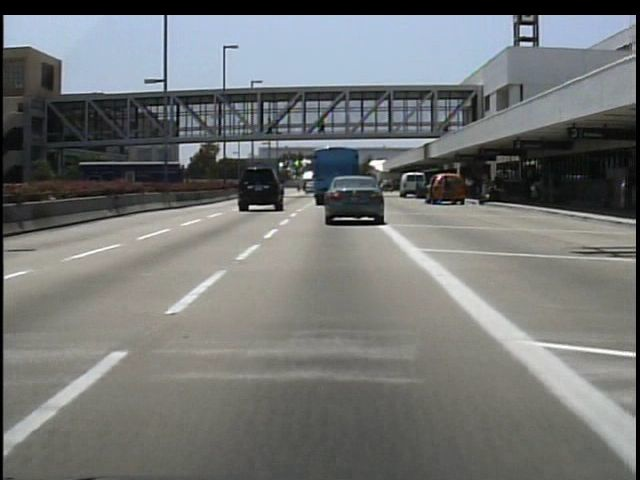person: (439, 177, 456, 212), (315, 115, 329, 141), (263, 114, 278, 136)
